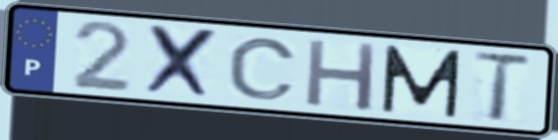2: (67, 19, 134, 93)
C: (225, 35, 300, 102)
H: (302, 36, 382, 114)
M: (379, 42, 465, 120)
T: (468, 50, 534, 125)
X: (142, 22, 223, 103)
